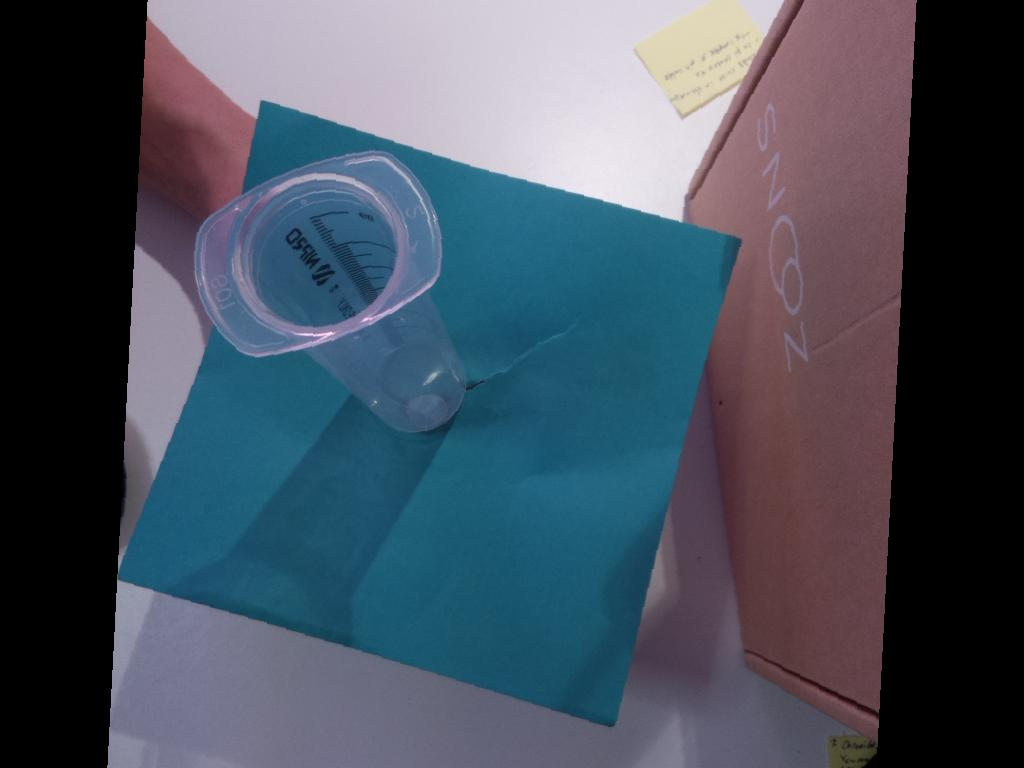clean: (192, 149, 444, 359)
